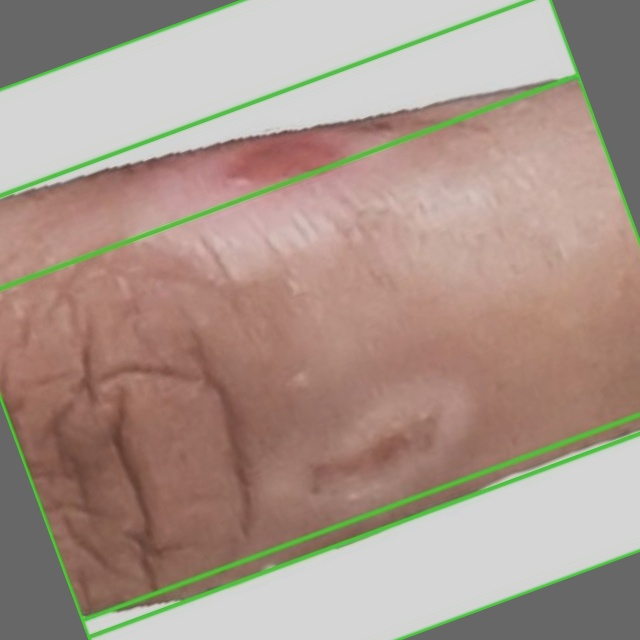Atopic Dermatitis: (0, 0, 639, 637), (0, 0, 578, 288), (81, 413, 639, 639)
